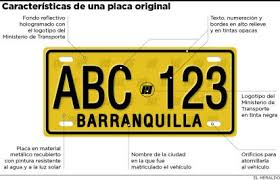number plate: (46, 50, 233, 133)
